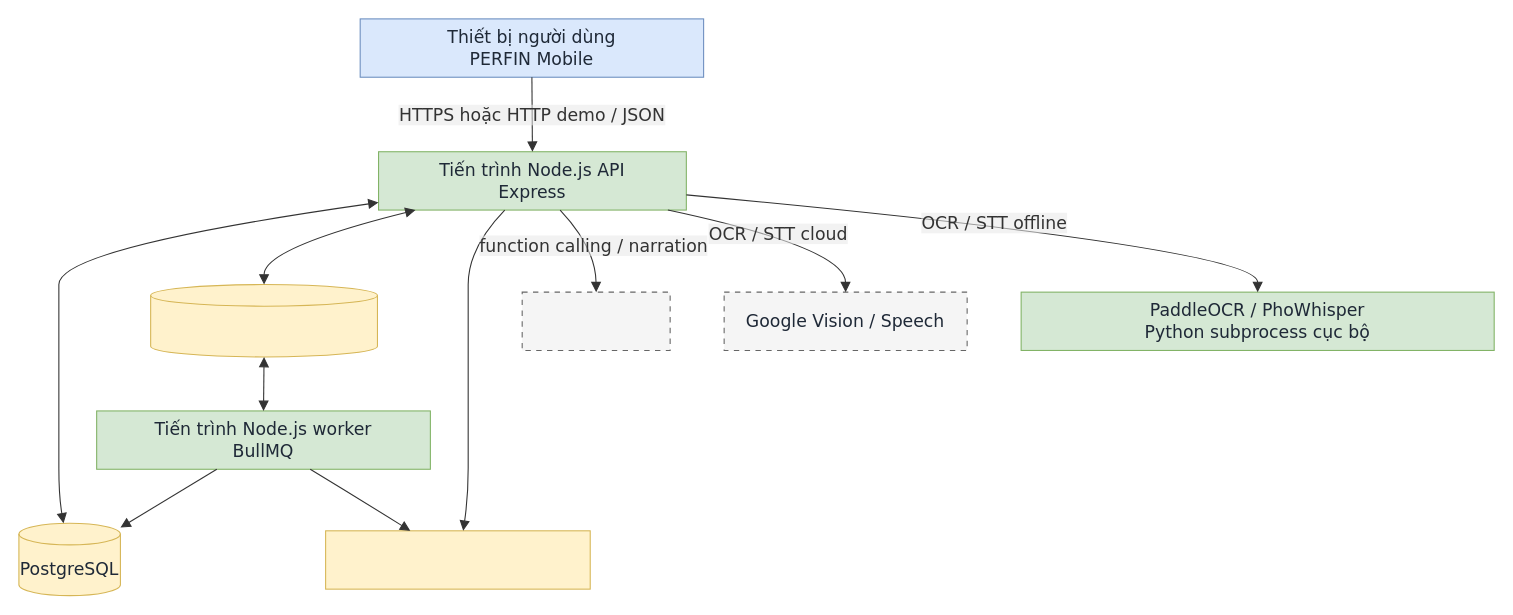
Some shapes in this 1513 by 615 pixel diagram are drawn without their labels. The shapes that lost their labels are listed below. From the top down, each one's centre as x and y in pixels, then its label:
the point at 263,320: Redis state, cache, queue
the point at 595,320: Gemini API
the point at 457,559: Thư mục export / backup
